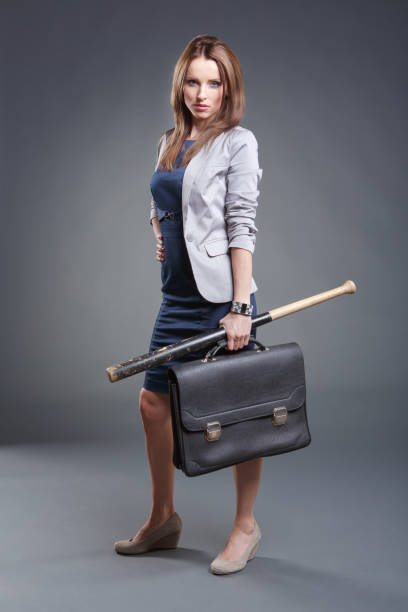bita: (107, 281, 358, 385)
